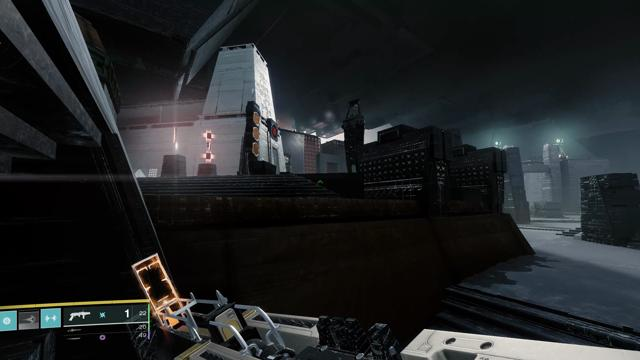brain: (284, 155, 290, 164)
stop: (272, 125, 277, 138)
